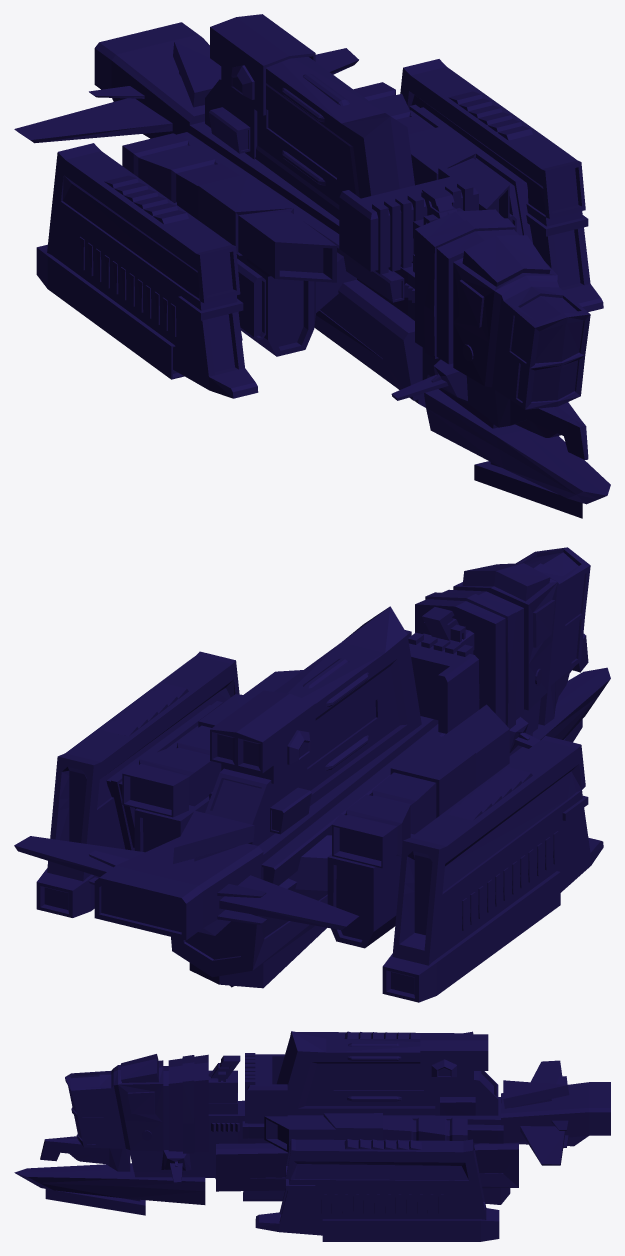
File: Ship_4.FBX
3 views of the same model, one above another, from view 1: azimuth 30°, elevation 25°; view 2: azimuth 150°, elevation 25°; view 3: azimuth 270°, elevation 25° (orthographic). The views are drawn at different scales.
Visible parts, largest first — view 1: Ship_4; view 2: Ship_4; view 3: Ship_4.
Part boxes in pixels (x1,y1,x2,y2): Ship_4: (14,14,610,518); Ship_4: (14,547,610,1002); Ship_4: (14,1031,610,1241).
Size of the model in its own units: 46.16 by 30.95 by 95.96.
